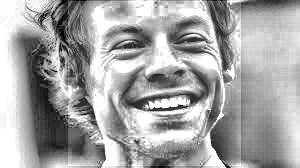happy: (68, 1, 241, 166)
